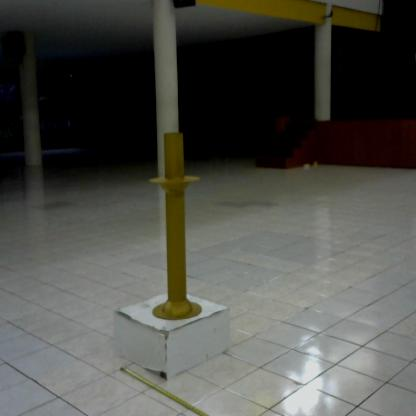pole: (143, 130, 214, 332)
